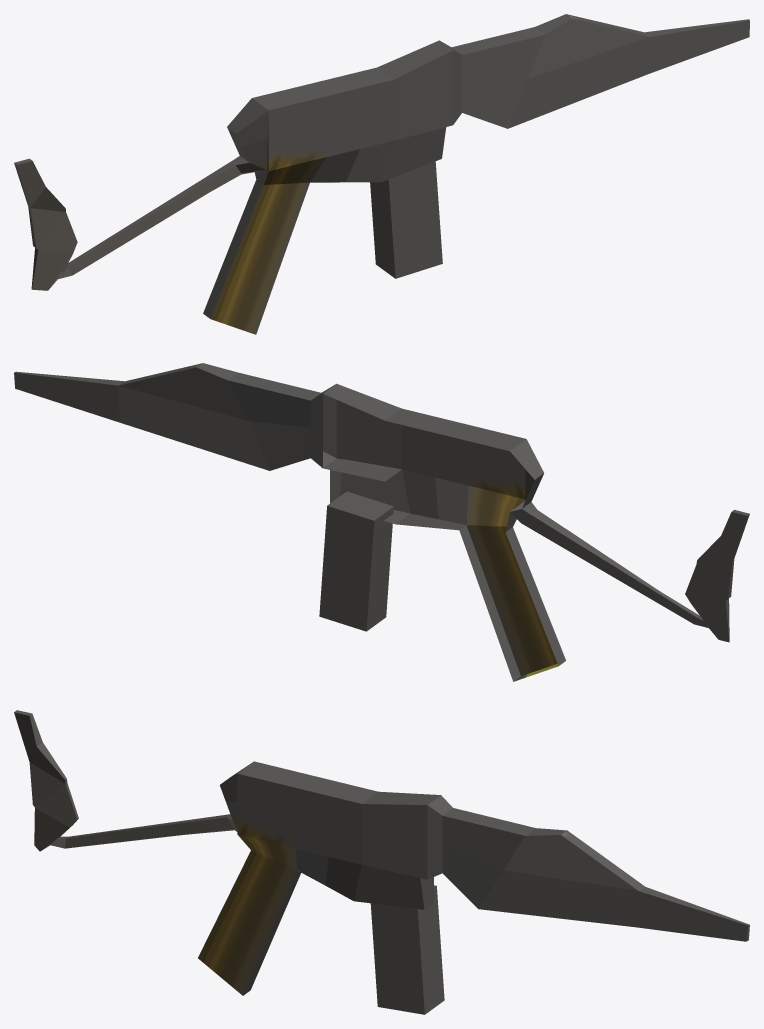
The model's file is rifle.glb.
The picture shows the model from 3 angles, top to bottom: view 1: azimuth 30°, elevation 25°; view 2: azimuth 150°, elevation 25°; view 3: azimuth 330°, elevation 25°; orthographic projection.
Visible parts, largest first — view 1: Cube, Cube.001; view 2: Cube, Cube.001; view 3: Cube, Cube.001.
Part boxes in pixels (<box>): Cube: <box>14,14,749,334</box>; Cube.001: <box>370,161,442,278</box>; Cube: <box>14,363,749,681</box>; Cube.001: <box>319,491,393,631</box>; Cube: <box>14,710,749,995</box>; Cube.001: <box>370,885,444,1014</box>.
Size of the model in its own units: 4.22 by 1.33 by 0.2659.
Materials: 2 (2 with a texture image).
